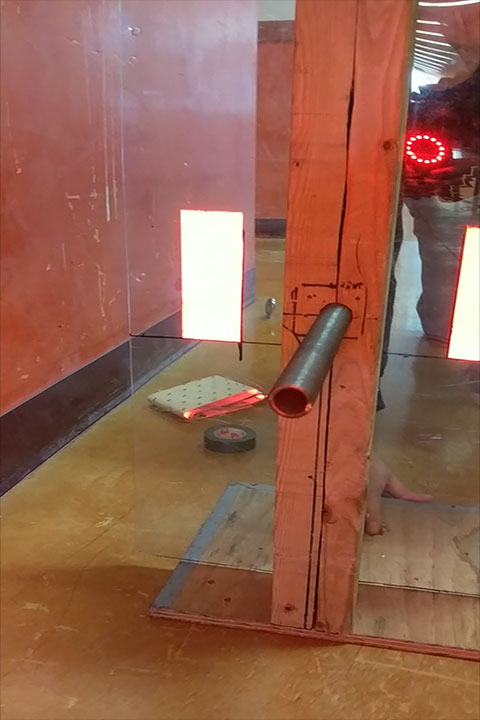gear: (179, 208, 244, 343), (444, 224, 480, 365)
